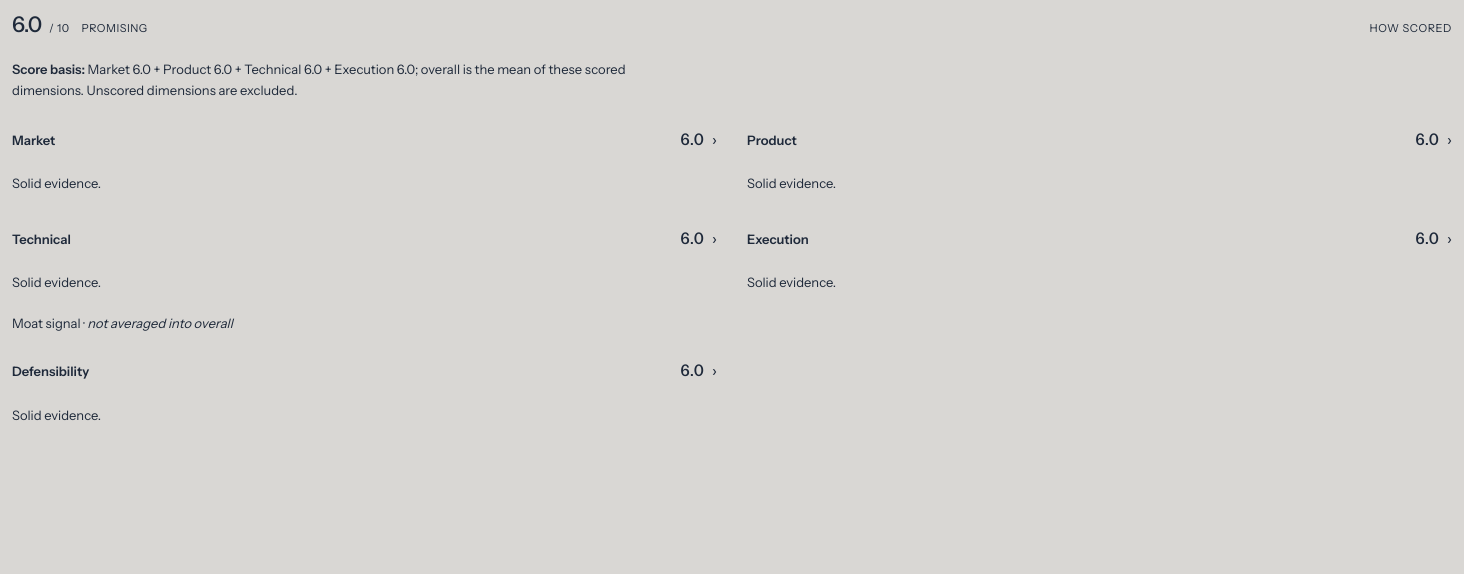
AssessmentScorecard accessibility and robustness › renders the canonical formula and cited source beside its score
Click the button "Market 6.0 ›".
click(34, 140)  # box [12, 114, 717, 166]
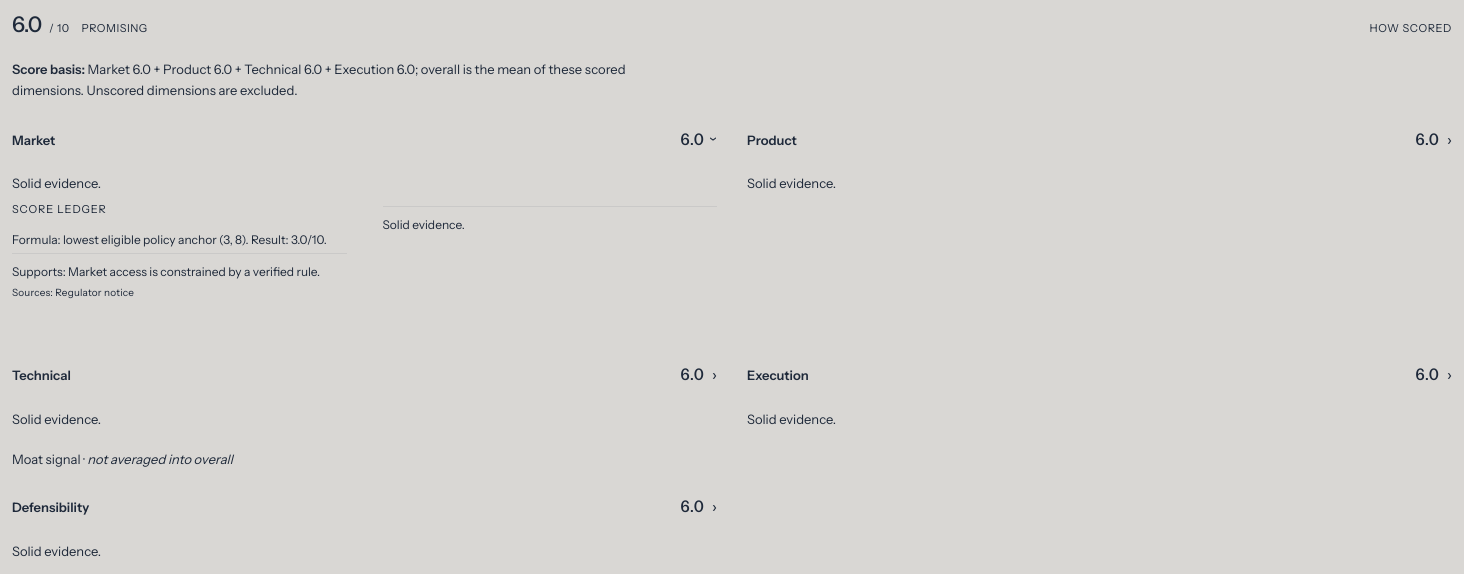
expect the text "Score ledger" is shown: met, box [12, 202, 106, 216]
expect the text "Formula: lowest eligible policy anchor (3, 8). Result: 3.0/10" is shown: met, box [12, 230, 346, 249]
expect the text "Supports: Market access is constrained by a verified rule." is shown: met, box [12, 264, 320, 279]
